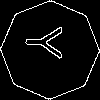Y: (25, 25, 72, 60)
